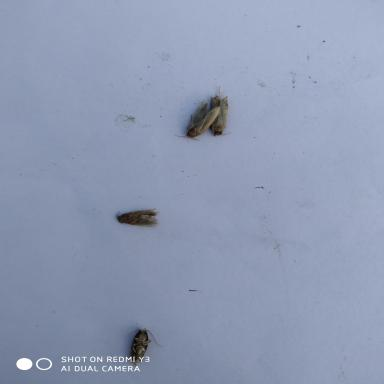pbw: (168, 100, 222, 142), (204, 85, 236, 142), (121, 326, 162, 368), (111, 206, 165, 230)
